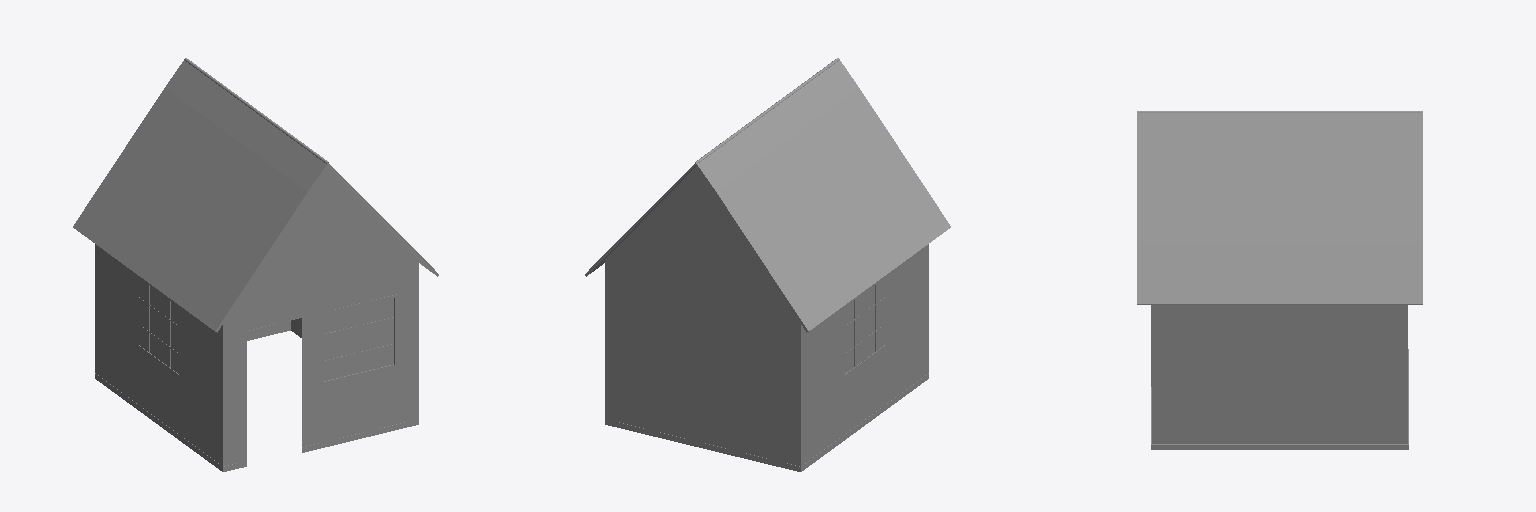
Rendered from casaabrida.obj.
The picture shows the model from 3 angles: view 1: azimuth 30°, elevation 25°; view 2: azimuth 150°, elevation 25°; view 3: azimuth 270°, elevation 25°; orthographic projection.
Visible parts, largest first — view 1: default; view 2: default; view 3: default.
Boxes of the visible parts, <box> form: default: <box>73,58,438,471</box>; default: <box>585,58,950,471</box>; default: <box>1137,111,1422,449</box>.
Bounding box in the file's own units: 7.28 × 9.04 × 8.03.